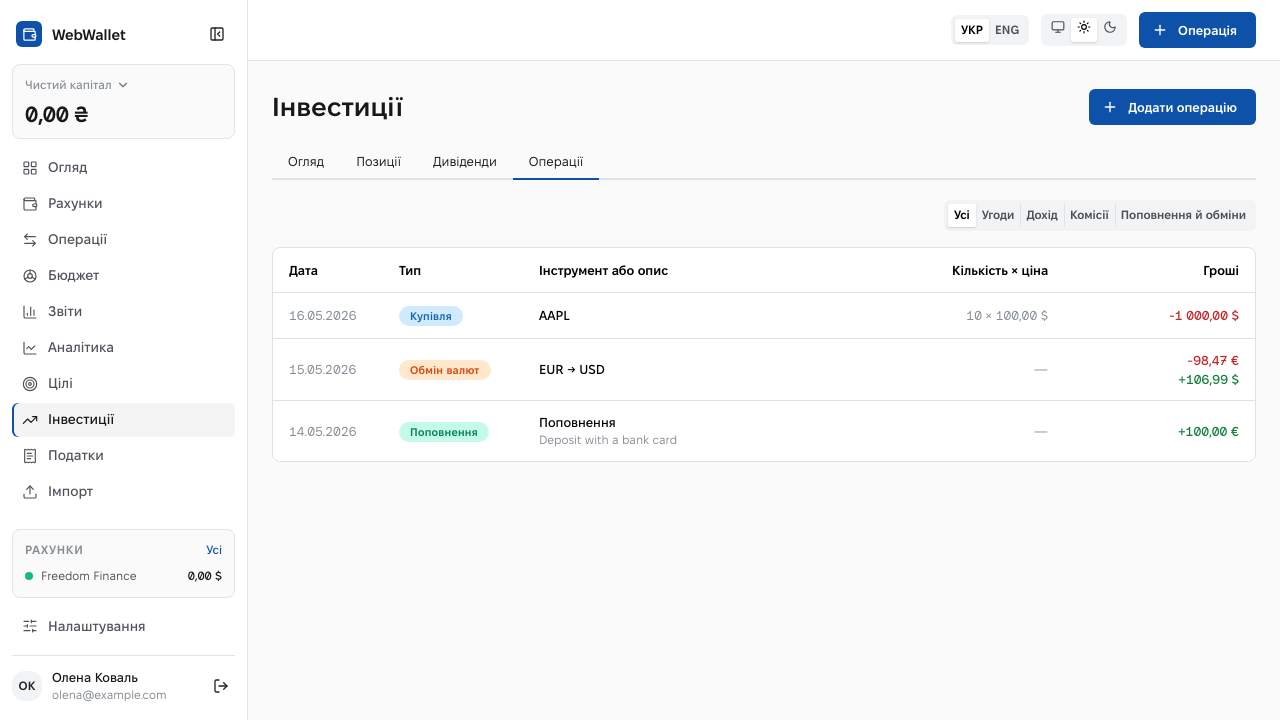
Scenario: lists the operations of the account and filters them by kind
Expected: the text "Deposit with a bank card" is shown, [539,433,677,446]
Expected: the text "AAPL" is shown, [539,308,570,322]
Click the 4th radio button labelled "Поповнення й обміни" at (1183,214), box [1121,208,1246,221]
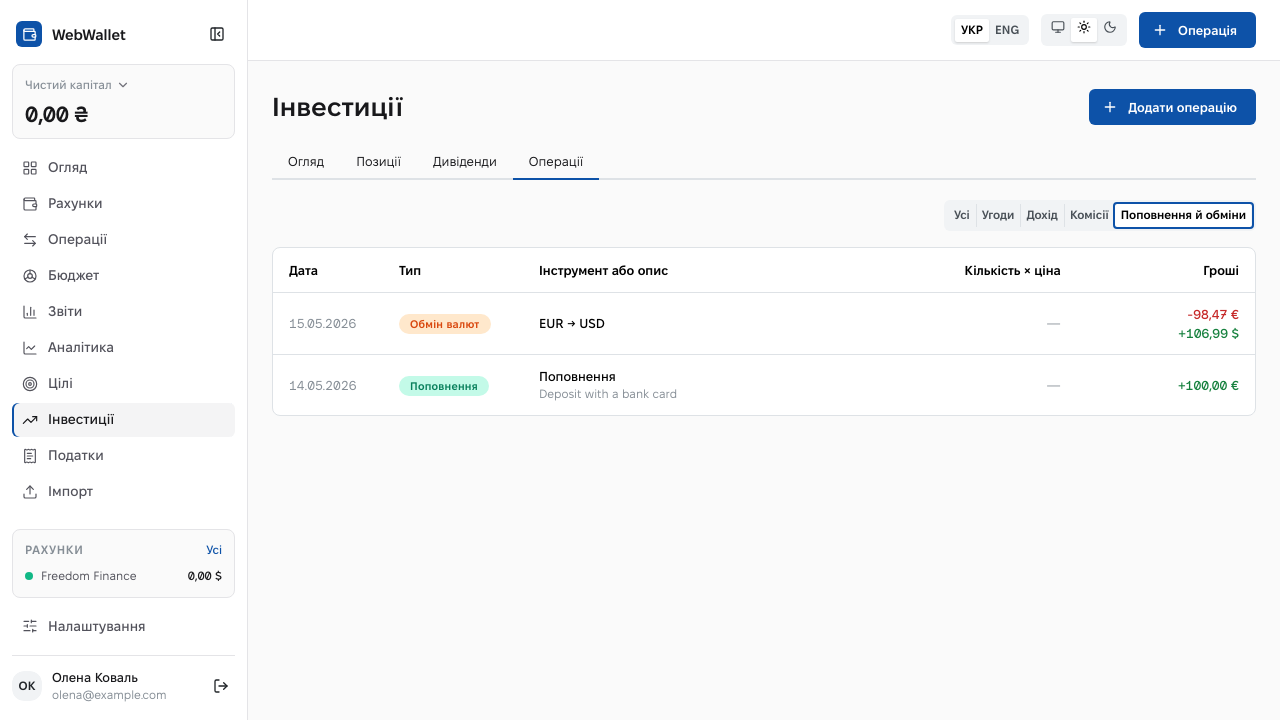
Now the button "AAPL" is gone
